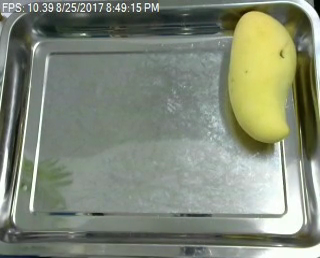Mango: (224, 8, 299, 143)
